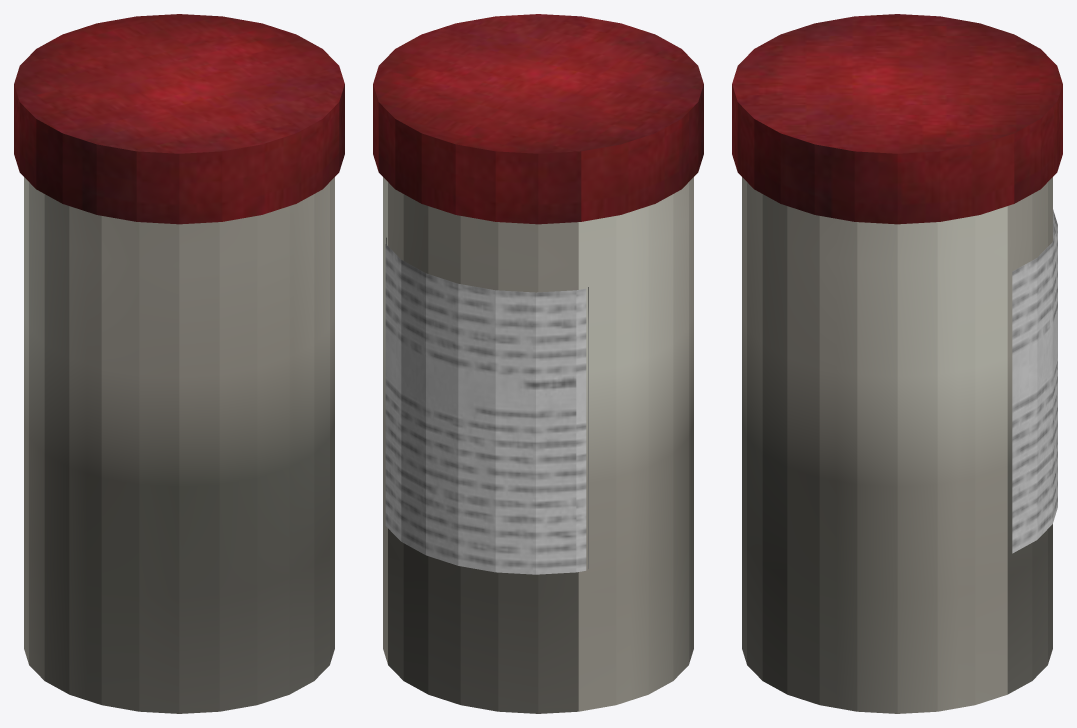
The model's file is shut the fuck up.obj.
3 renders of one model, left to right at view 1: azimuth 30°, elevation 25°; view 2: azimuth 150°, elevation 25°; view 3: azimuth 270°, elevation 25°, orthographic.
Size of the model in its own units: 136 by 256 by 136.
